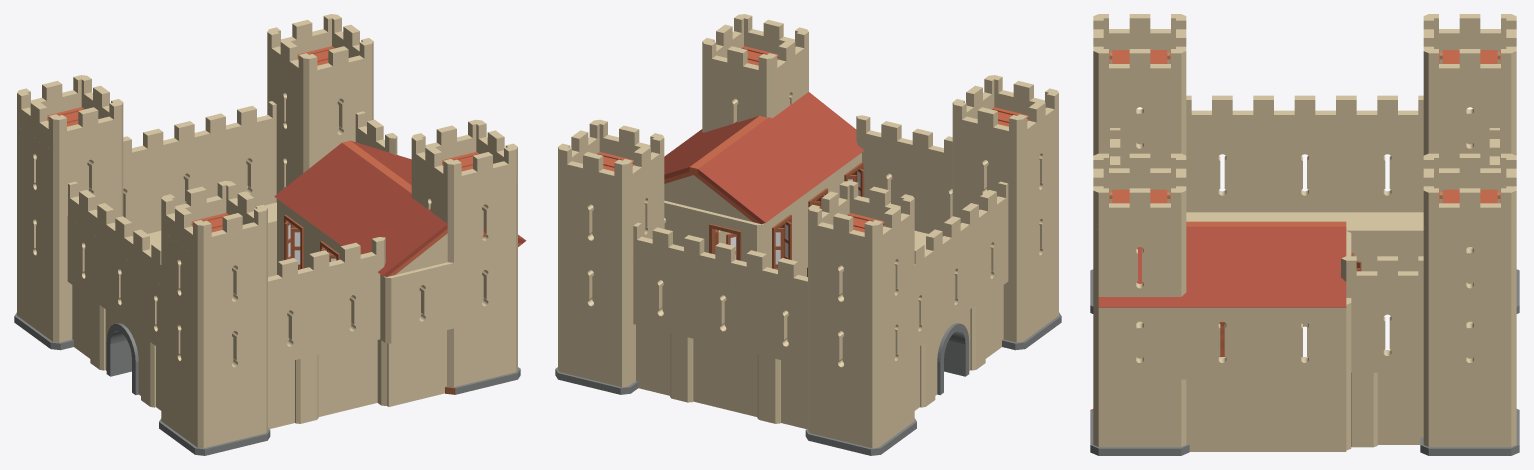
File: chateau.glb
3 renders of one model, left to right at view 1: azimuth 30°, elevation 25°; view 2: azimuth 150°, elevation 25°; view 3: azimuth 270°, elevation 25°, orthographic. The views are drawn at different scales.
Visible parts, largest first — view 1: mergedBlocks(Clone); view 2: mergedBlocks(Clone); view 3: mergedBlocks(Clone).
Part boxes in pixels (left/top/right/bottom): mergedBlocks(Clone): left=14, top=14, right=526, bottom=455; mergedBlocks(Clone): left=555, top=14, right=1061, bottom=455; mergedBlocks(Clone): left=1090, top=14, right=1519, bottom=455.
Size of the model in its own units: 5.3 by 3.5 by 5.21.
1 material, 1 textured.
